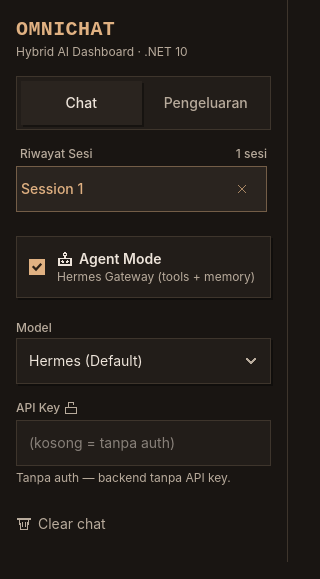
Test: Sidebar › leaves the session alone when the confirmation is cancelled
This screenshot has width=320, height=579.
What coordinates should you click on to do the following:
click the button named "Hapus Session 1"
I would click on:
 (242, 189)
Its box is [220, 167, 264, 211].
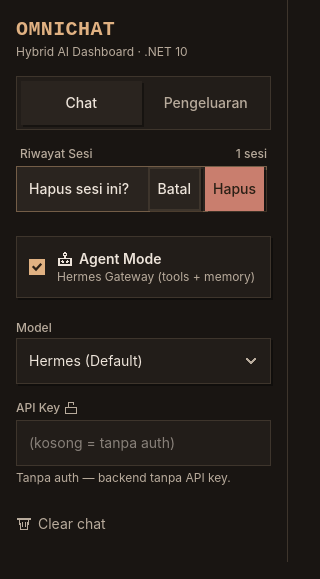
What coordinates should you click on to do the following:
click the button with aria-label "Batal hapus Session 1"
I would click on:
 (174, 189)
Its box is [148, 167, 201, 211].
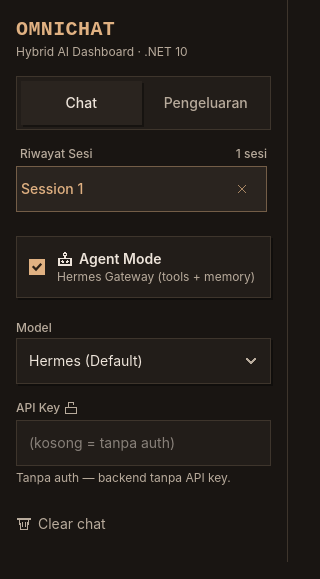
Now the text "Hapus sesi ini?" is gone
Now the button named "Hapus Session 1" is shown, box [220, 167, 264, 211]
